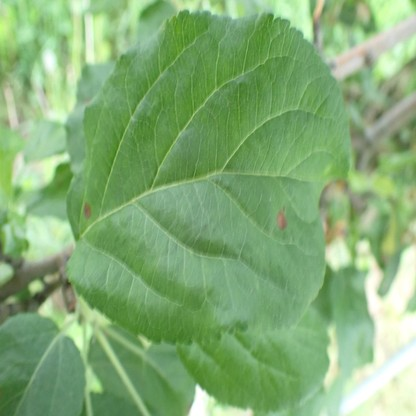frogeye_leaf_spot: (319, 178, 350, 244), (277, 207, 287, 228), (83, 203, 91, 219)
